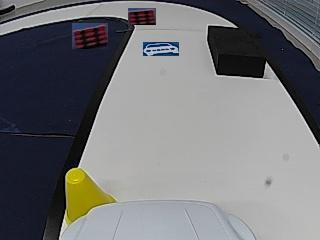block: (206, 25, 264, 76)
cone: (65, 168, 116, 204)
